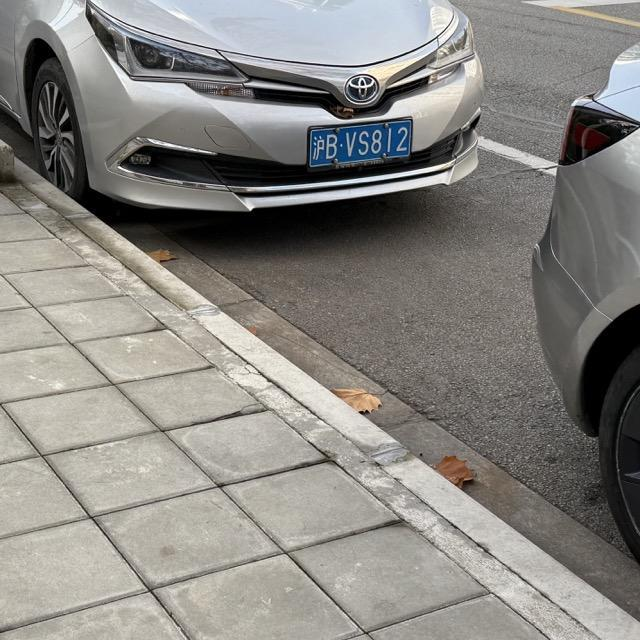curb: (15, 159, 639, 639), (5, 186, 599, 639)
